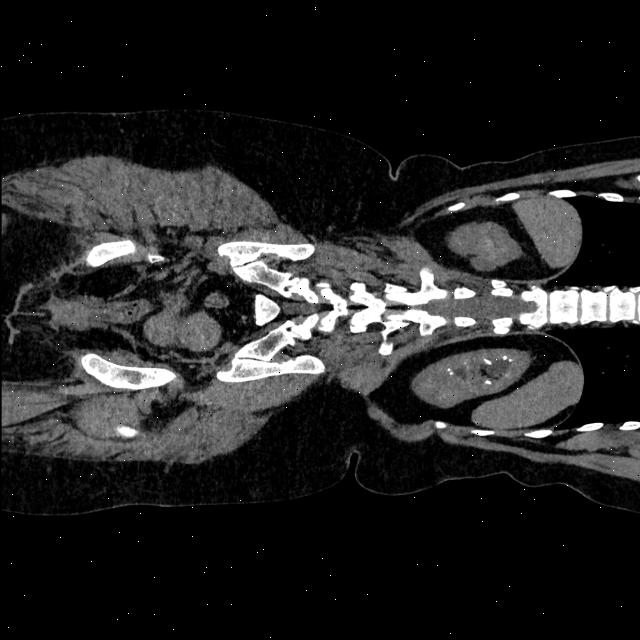kidneystone: (483, 359, 492, 365), (446, 368, 453, 375), (485, 380, 490, 385), (502, 355, 507, 360), (508, 359, 513, 362)
